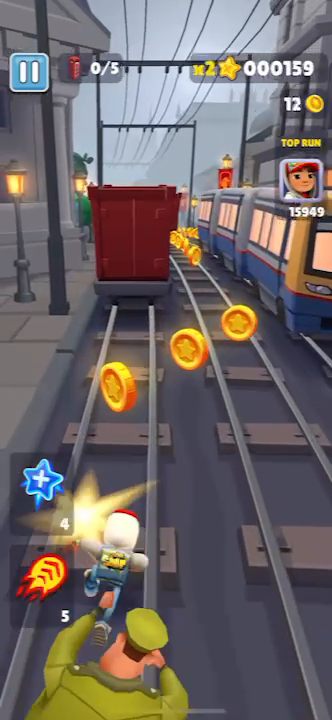train: (193, 181, 331, 342)
